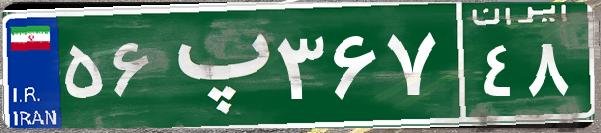3: (273, 28, 330, 110)
4: (475, 38, 525, 113)
5: (57, 26, 110, 107)
6: (330, 28, 385, 110), (110, 28, 158, 105)
7: (385, 28, 445, 110)
8: (525, 38, 570, 115)
پ: (158, 15, 273, 115)
